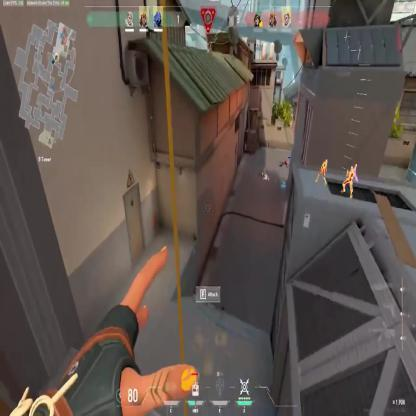enemy: (341, 164, 357, 199), (315, 158, 328, 186)
enemy_head: (351, 164, 354, 172), (325, 158, 328, 164)
